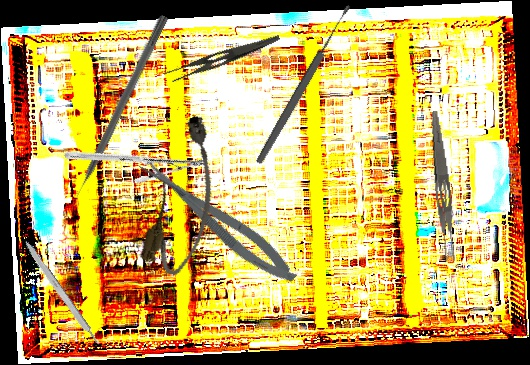Cannula: (137, 111, 234, 280)
Dressing Forceps: (162, 22, 281, 90), (423, 110, 460, 263)
Micro Scissor: (134, 148, 303, 293)
Needle Holder: (63, 98, 209, 220)
Pusher: (64, 13, 170, 211)
Scalpel Handle: (19, 237, 102, 348)
Surgical Spoon: (253, 2, 355, 167)
